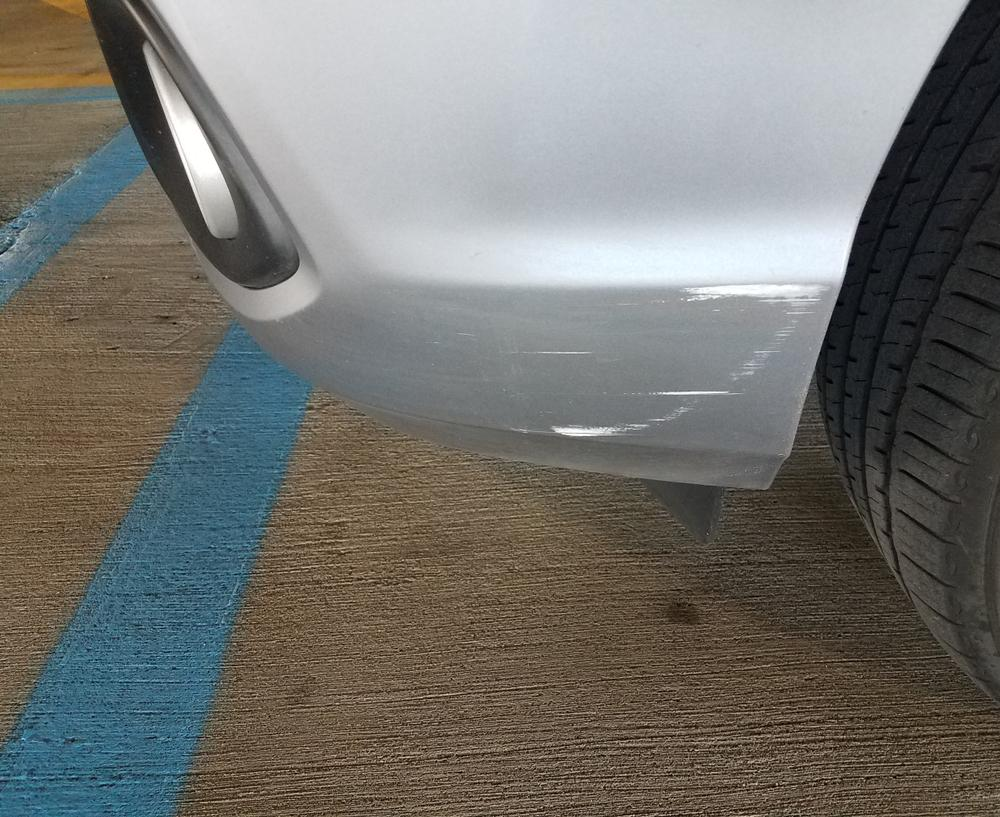scratch: (501, 280, 831, 442)
